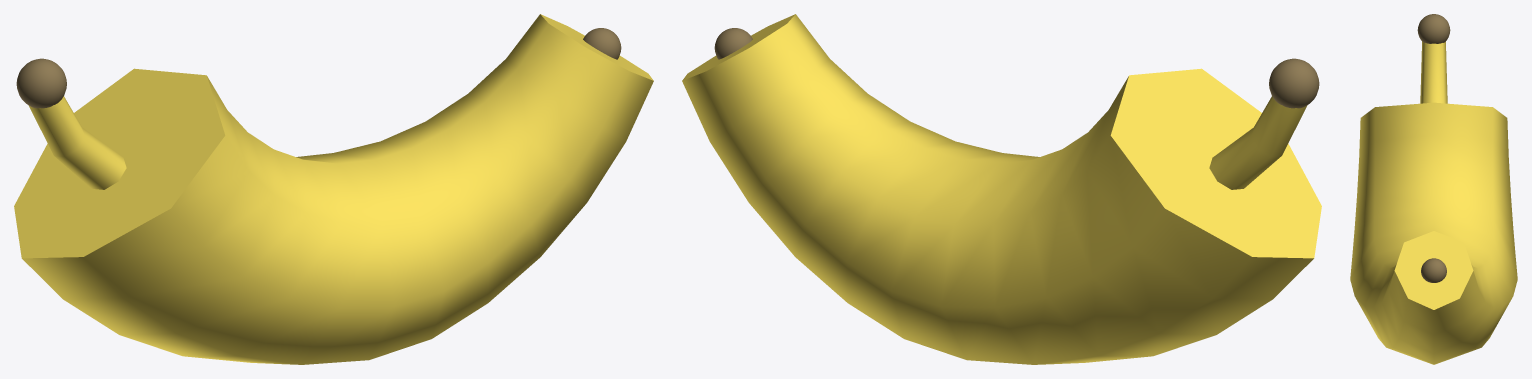
File: banana.glb
3 views of the same model, side by side, from view 1: azimuth 30°, elevation 25°; view 2: azimuth 150°, elevation 25°; view 3: azimuth 270°, elevation 25° (orthographic). The views are drawn at different scales.
Parts seen in each view (by area): view 1: banana; view 2: banana; view 3: banana.
Boxes of the visible parts, left/top/right/bottom form: banana: left=14, top=14, right=653, bottom=364; banana: left=682, top=14, right=1321, bottom=364; banana: left=1350, top=14, right=1517, bottom=364.
Bounding box in the file's own units: 0.7191 × 0.3958 × 0.2573.
